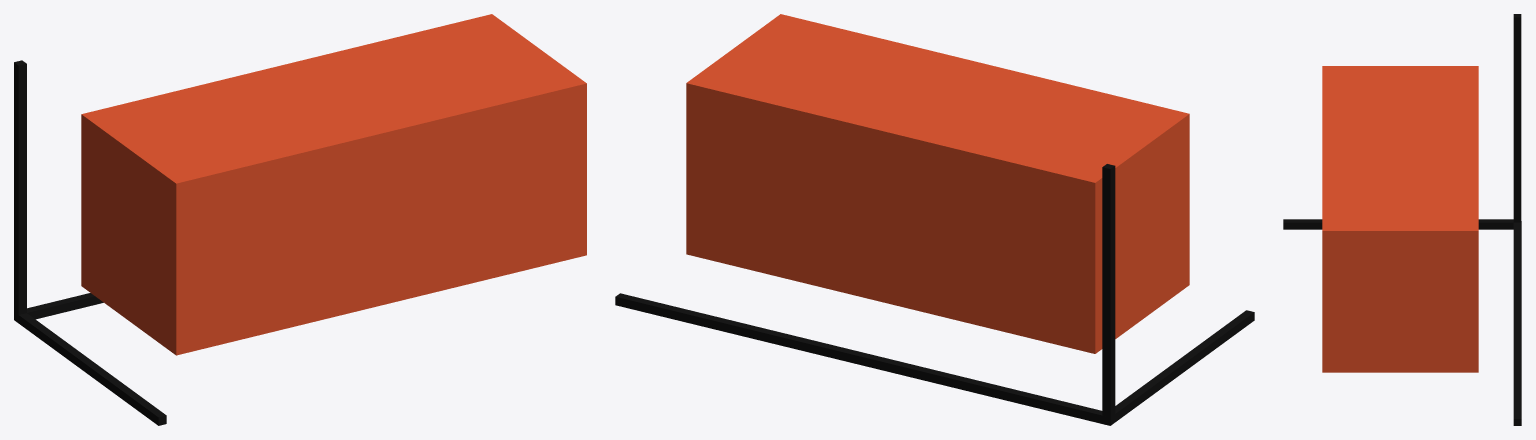
File: ortoedro.fbx
3 renders of one model, left to right at view 1: azimuth 30°, elevation 25°; view 2: azimuth 150°, elevation 25°; view 3: azimuth 270°, elevation 25°, orthographic. The views are drawn at different scales.
Visible parts, largest first — view 1: Mesh_1, Mesh_0; view 2: Mesh_1, Mesh_0; view 3: Mesh_1, Mesh_0.
Part boxes in pixels (x1,y1,x2,y2): Mesh_1: [81, 14, 586, 355]; Mesh_0: [14, 60, 166, 425]; Mesh_1: [686, 14, 1189, 353]; Mesh_0: [615, 164, 1254, 425]; Mesh_1: [1322, 66, 1478, 372]; Mesh_0: [1283, 14, 1521, 425].
Size of the model in its own units: 12.1 by 6 by 6.1.
